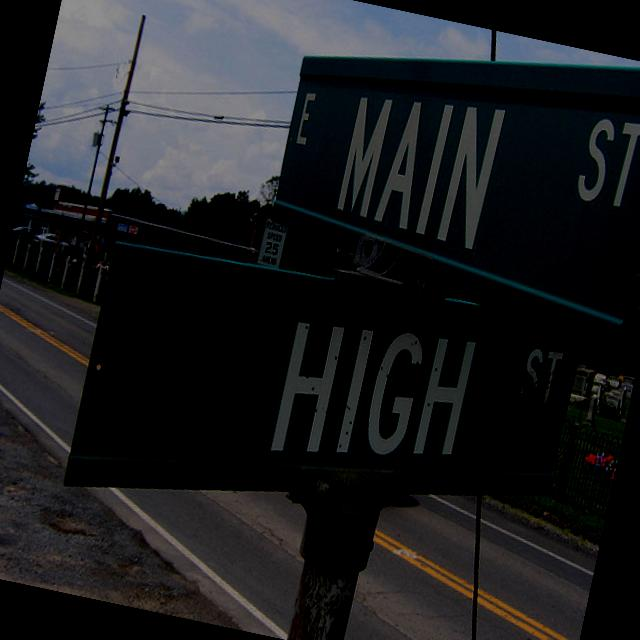Vehicle: (32, 229, 71, 250), (11, 222, 39, 239)
